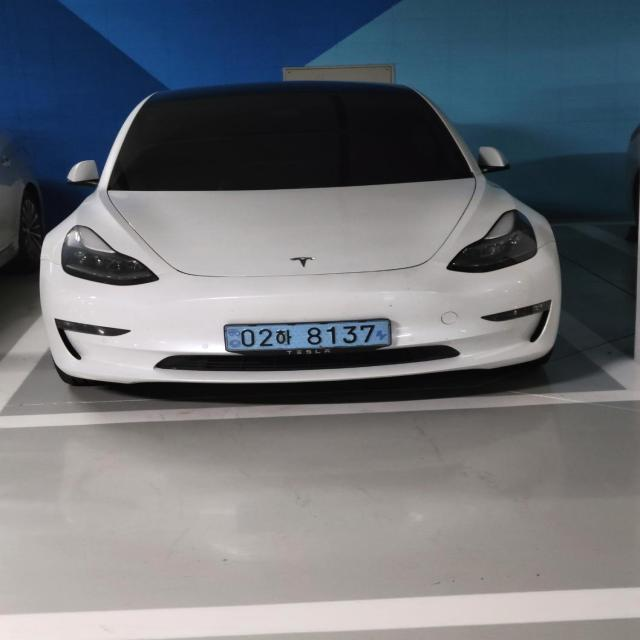EV_plate: (222, 316, 400, 361)
car: (36, 74, 566, 400)
